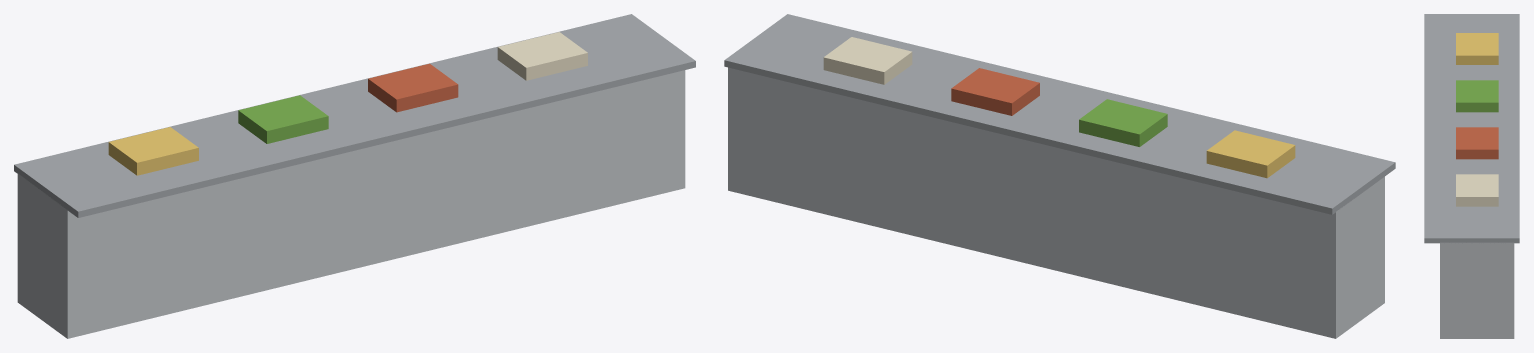
File: lunch_counter.glb
3 renders of one model, left to right at view 1: azimuth 30°, elevation 25°; view 2: azimuth 150°, elevation 25°; view 3: azimuth 270°, elevation 25°, orthographic. The views are drawn at different scales.
Parts seen in each view (by area): view 1: Box1, Box2, Box3, Box4, Box6, Box5; view 2: Box1, Box2, Box3, Box6, Box5, Box4; view 3: Box2, Box1, Box4, Box5, Box6, Box3.
Part boxes in pixels (x1,y1,x2,y2): Box1: [17, 70, 685, 338]; Box2: [14, 14, 695, 217]; Box3: [108, 127, 198, 175]; Box4: [238, 95, 328, 143]; Box6: [497, 32, 587, 80]; Box5: [368, 63, 458, 112]; Box1: [728, 67, 1384, 338]; Box2: [724, 14, 1395, 214]; Box3: [1206, 130, 1295, 178]; Box6: [823, 37, 912, 84]; Box5: [951, 68, 1039, 115]; Box4: [1079, 99, 1167, 146]; Box2: [1424, 14, 1519, 243]; Box1: [1440, 242, 1514, 338]; Box4: [1456, 80, 1498, 112]; Box5: [1456, 127, 1498, 159]; Box6: [1456, 174, 1498, 206]; Box3: [1456, 33, 1498, 64].
Bounding box in the file's own units: 5 × 1.15 × 0.9.
